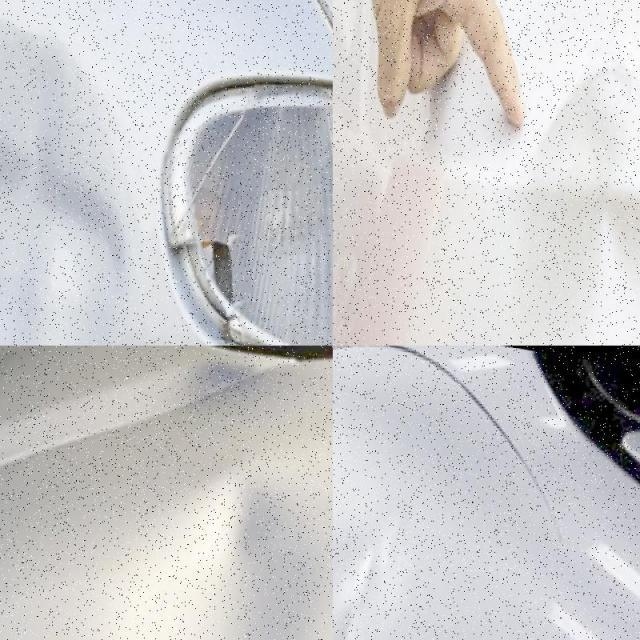car damage: (108, 433, 333, 639), (446, 86, 631, 336), (2, 45, 137, 348), (382, 348, 560, 525), (160, 84, 258, 241)
